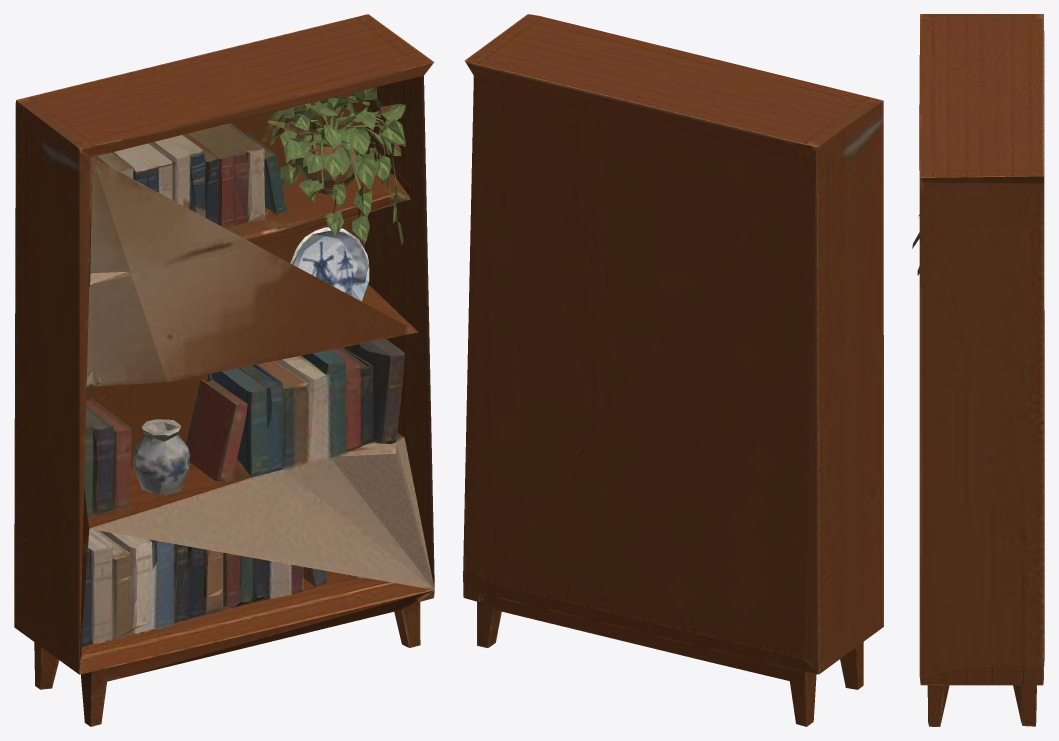
File: bookshelf2.glb
The picture shows the model from 3 angles, left to right: view 1: azimuth 30°, elevation 25°; view 2: azimuth 150°, elevation 25°; view 3: azimuth 270°, elevation 25°; orthographic projection. The views are drawn at different scales.
Size of the model in its own units: 1.21 by 1.9 by 0.4111.
Materials: 1 (1 with a texture image).
